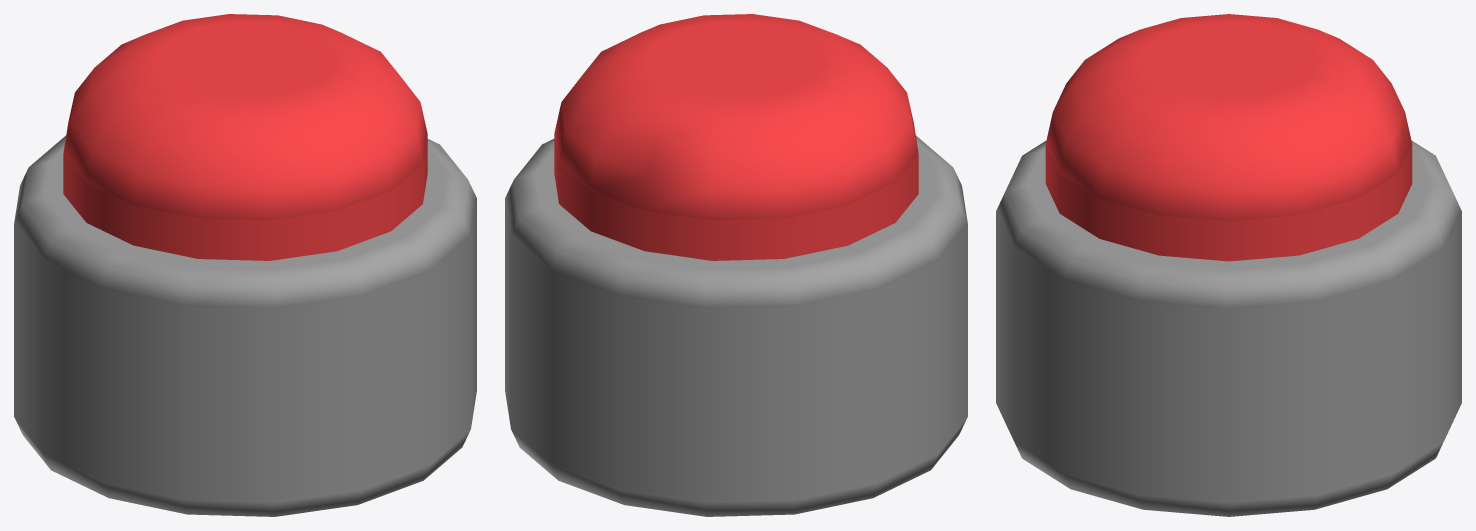
File: Button_Small.fbx
3 renders of one model, left to right at view 1: azimuth 30°, elevation 25°; view 2: azimuth 150°, elevation 25°; view 3: azimuth 270°, elevation 25°, orthographic.
Parts seen in each view (by area): view 1: Button_Small, Button_Top.001; view 2: Button_Small, Button_Top.001; view 3: Button_Small, Button_Top.001.
Boxes of the visible parts, x1,y1,x2,y2 form: Button_Small: (14,135,476,516); Button_Top.001: (63,14,427,260); Button_Small: (505,135,967,516); Button_Top.001: (554,14,918,260); Button_Small: (996,141,1461,516); Button_Top.001: (1045,14,1412,261).
Size of the model in its own units: 23.4 by 20.49 by 23.4.
